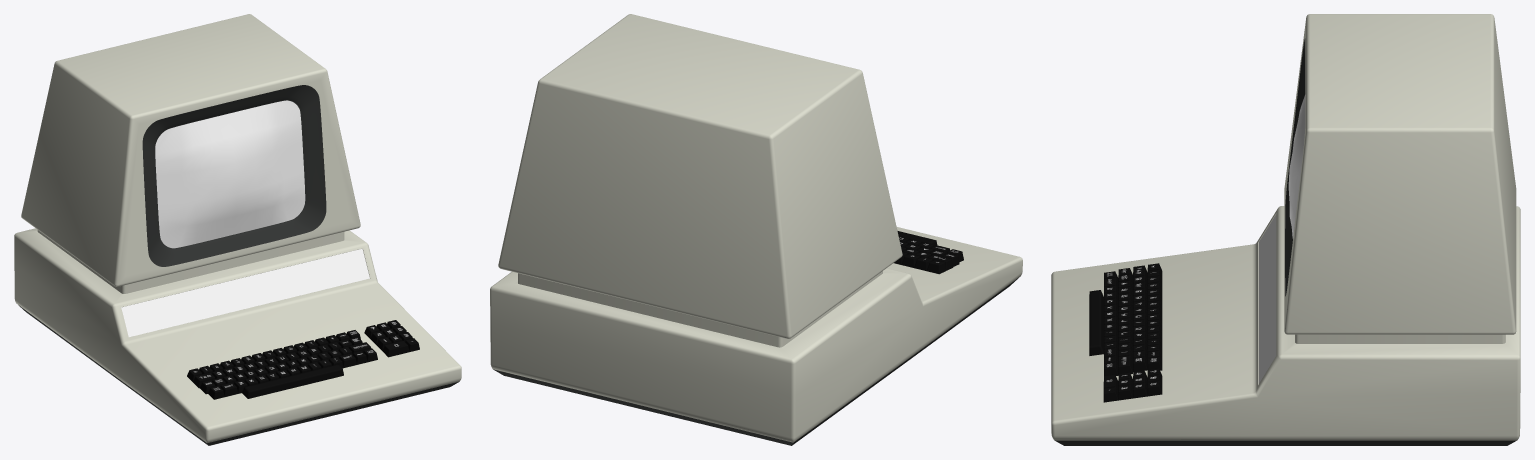
Rendered from retro.glb.
3 views of the same model, side by side, from view 1: azimuth 30°, elevation 25°; view 2: azimuth 150°, elevation 25°; view 3: azimuth 270°, elevation 25° (orthographic). The views are drawn at different scales.
Parts seen in each view (by area): view 1: Computer, Keyboard; view 2: Computer, Keyboard; view 3: Computer, Keyboard.
Boxes of the visible parts, left/top/right/bottom form: Computer: left=14, top=14, right=461, bottom=445; Keyboard: left=187, top=320, right=419, bottom=399; Computer: left=490, top=14, right=1022, bottom=445; Keyboard: left=894, top=231, right=963, bottom=274; Computer: left=1051, top=14, right=1520, bottom=445; Keyboard: left=1089, top=263, right=1162, bottom=402.
Size of the model in its own units: 15.27 by 14.22 by 19.94.
5 materials, 1 textured.
